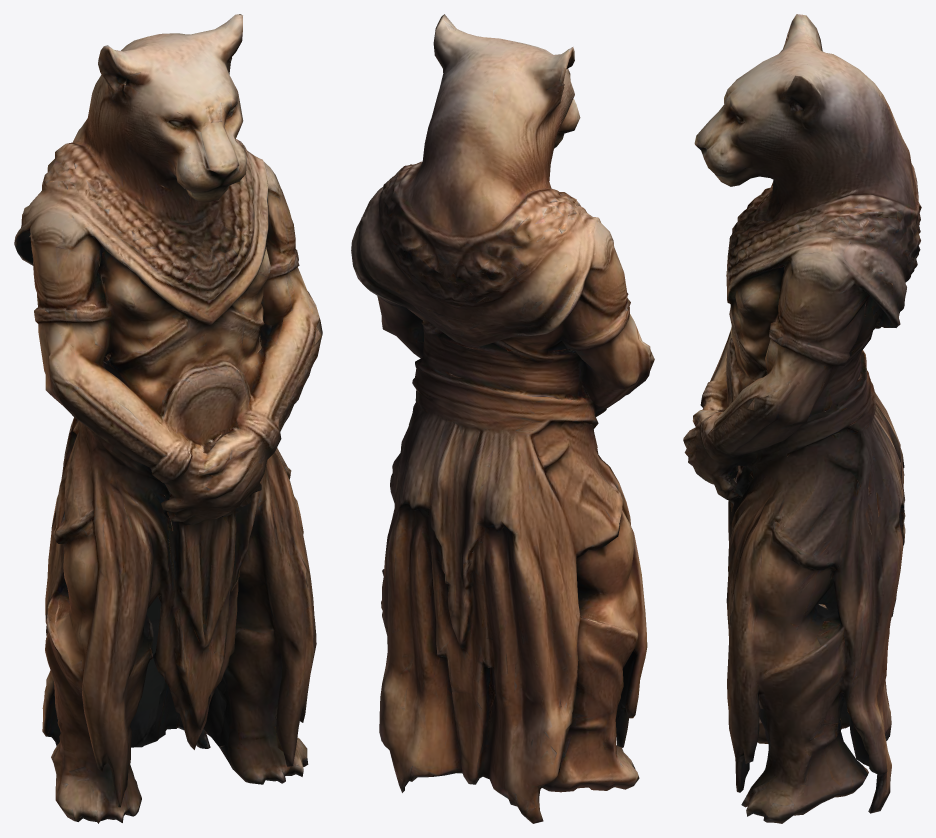
File: Pantheron Golem_final.glb
3 renders of one model, left to right at view 1: azimuth 30°, elevation 25°; view 2: azimuth 150°, elevation 25°; view 3: azimuth 270°, elevation 25°, orthographic. The views are drawn at different scales.
Visible parts, largest first — view 1: Mesh_0; view 2: Mesh_0; view 3: Mesh_0.
Boxes of the visible parts, x1,y1,x2,y2 form: Mesh_0: (14, 14, 322, 823); Mesh_0: (351, 14, 654, 823); Mesh_0: (683, 14, 921, 823).
Size of the model in its own units: 0.733 by 2 by 0.587.
Materials: 1 (1 with a texture image).
